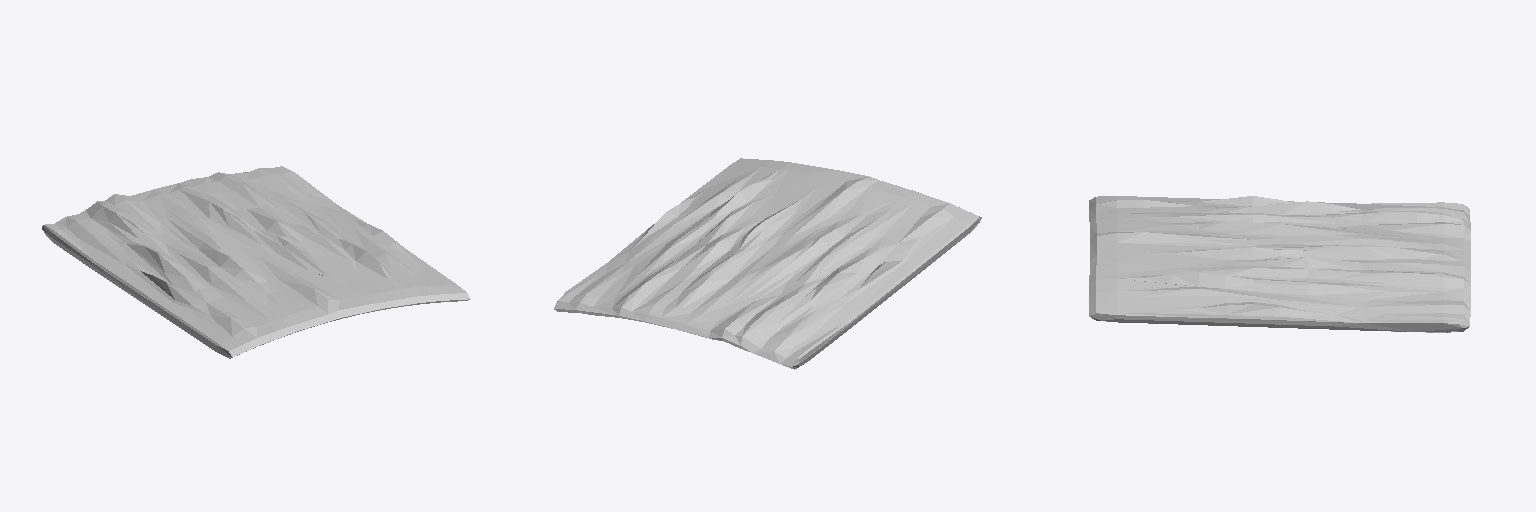
The model's file is ground2.obj.
3 views of the same model, side by side, from view 1: azimuth 30°, elevation 25°; view 2: azimuth 150°, elevation 25°; view 3: azimuth 270°, elevation 25° (orthographic).
Size of the model in its own units: 949 by 143 by 1288.